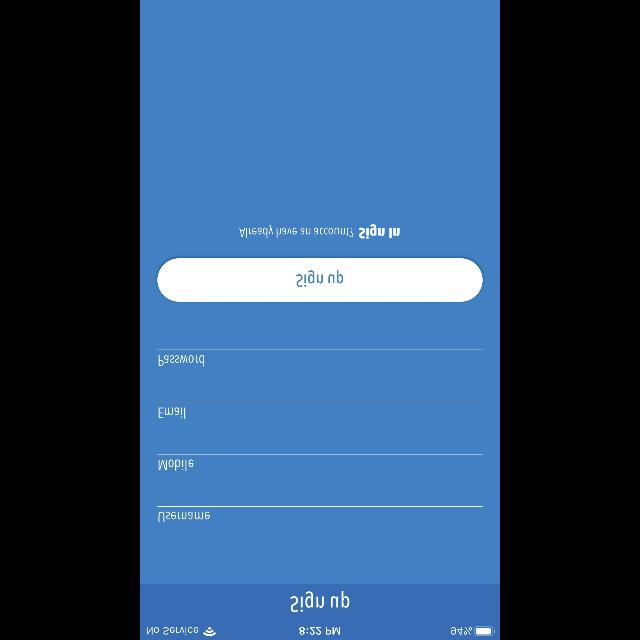input: (158, 454, 482, 471), (158, 349, 482, 366), (158, 506, 482, 522), (158, 402, 482, 418)
text: (239, 225, 353, 238), (290, 592, 350, 612), (358, 224, 399, 240), (158, 512, 210, 522), (158, 356, 204, 366), (158, 460, 194, 470), (159, 408, 185, 418)
textbutton: (158, 258, 482, 302)
uppertaskbar: (140, 626, 500, 640)
